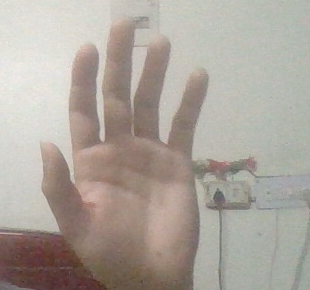move: (41, 18, 211, 284)
